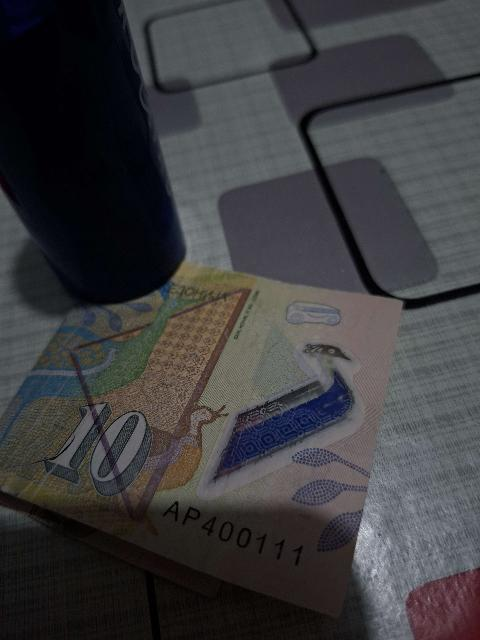note: (0, 258, 403, 613)
